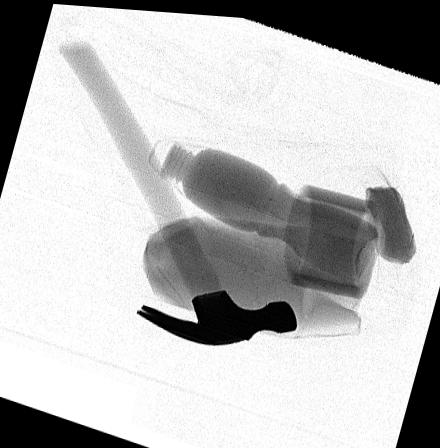Hammer: (55, 37, 297, 342)
